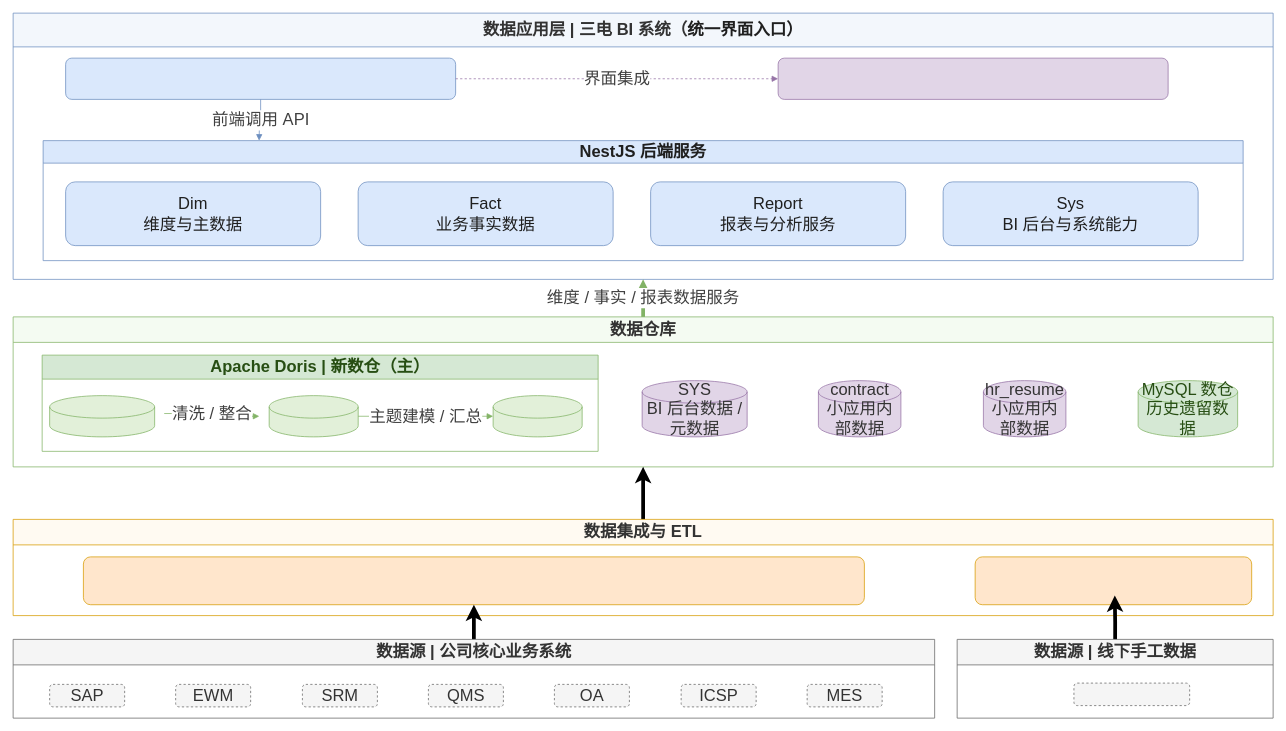
The diagram is 1286 pixels wide and 731 high, and some of its shapes have lost their labels. The shapes that lost their labels are listed below. From the top down, each one's centre as x and y in pixels, then its label:
(x=260, y=78): 三电 BI 系统 Vue 前端界面
(x=972, y=78): Power BI 报表 界面集成
(x=102, y=416): STG 落地 / 暂存层
(x=313, y=416): ODS 明细整合层
(x=537, y=416): DWS 主题汇总层
(x=473, y=580): FineDataLink 核心业务系统 ETL
(x=1113, y=580): 用户 BI 系统导入 EXCEL 专用导入路径
(x=1131, y=694): EXCEL 数据源
